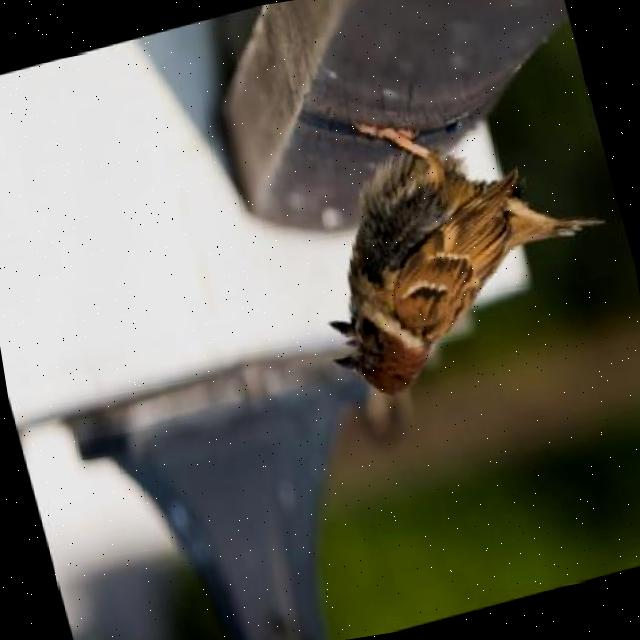sparrow: (280, 77, 636, 418)
